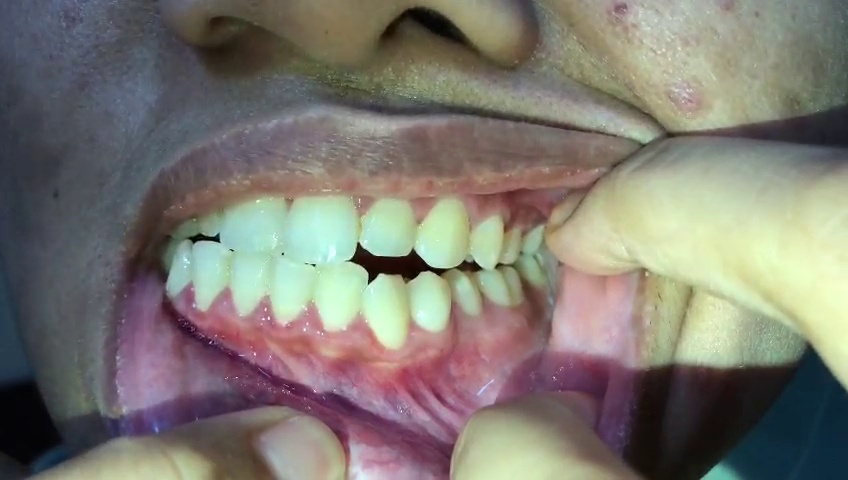1st Molar: (476, 266, 508, 309), (519, 219, 543, 258)
1st Premolar: (409, 271, 453, 334), (469, 214, 504, 271)
2nd Molar: (503, 266, 526, 302)
2nd Premolar: (445, 269, 484, 316), (502, 228, 525, 264)
3rd Molar: (518, 255, 546, 292)
Canine: (415, 195, 470, 267), (363, 274, 410, 351), (163, 241, 191, 305)
Central Incisor: (289, 186, 361, 263), (216, 183, 288, 254), (273, 255, 316, 328), (228, 252, 273, 319)
Lateral Incisor: (314, 261, 367, 333), (360, 192, 416, 255), (188, 241, 230, 312)
